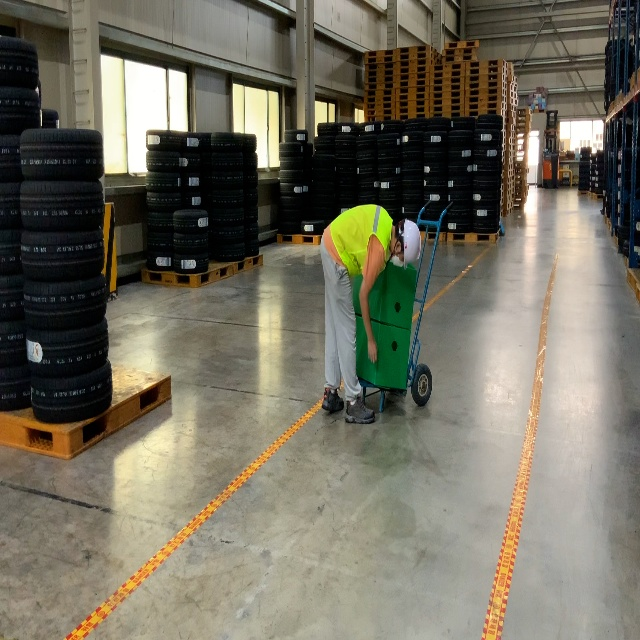Box: (353, 250, 418, 329), (355, 314, 411, 391)
Worker: (320, 203, 422, 425)
